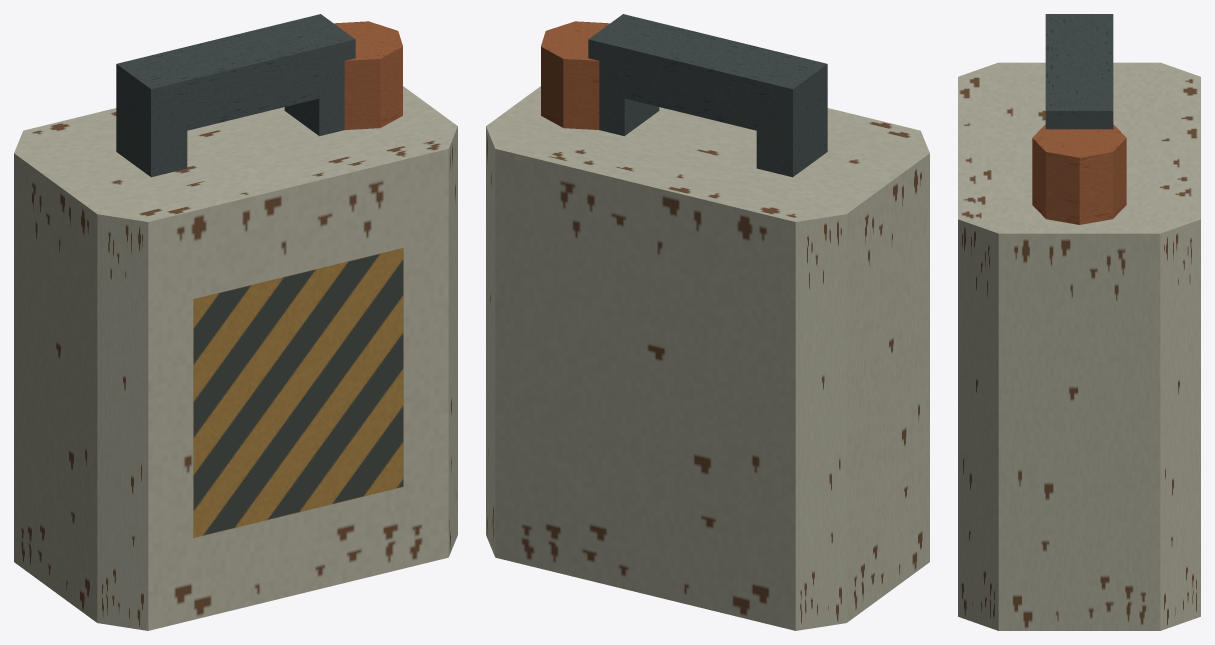
File: Canister.fbx
3 views of the same model, side by side, from view 1: azimuth 30°, elevation 25°; view 2: azimuth 150°, elevation 25°; view 3: azimuth 270°, elevation 25° (orthographic). The views are drawn at different scales.
Parts seen in each view (by area): view 1: Canister; view 2: Canister; view 3: Canister.
Part boxes in pixels (x1=…): Canister: x1=14, y1=14, x2=457, y2=630; Canister: x1=486, y1=14, x2=929, y2=630; Canister: x1=958, y1=14, x2=1200, y2=630.
Bounding box in the file's own units: 60 × 79 × 36.
